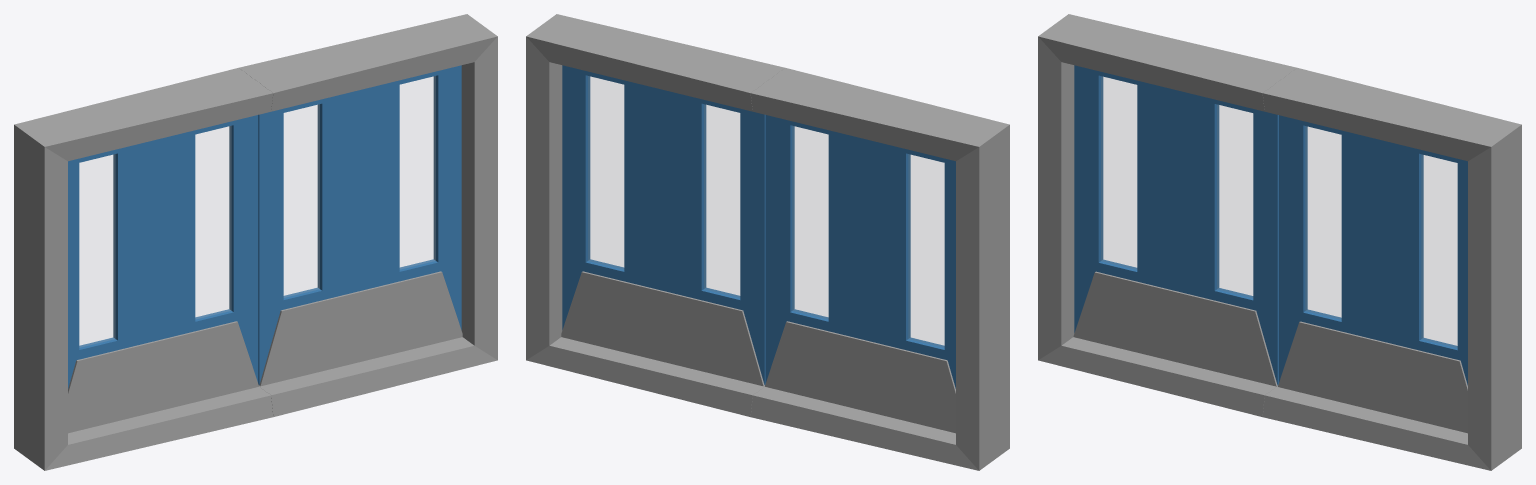
Rendered from Door.gltf.
3 renders of one model, left to right at view 1: azimuth 30°, elevation 25°; view 2: azimuth 150°, elevation 25°; view 3: azimuth 330°, elevation 25°, orthographic.
Visible parts, largest first — view 1: Door.001, Door, DoorFrame, DoorFrame.001; view 2: Door.001, Door, DoorFrame, DoorFrame.001; view 3: Door, Door.001, DoorFrame.001, DoorFrame.
Part boxes in pixels (<box>): Door.001: <box>258,65,462,386</box>; Door: <box>68,115,258,433</box>; DoorFrame: <box>14,68,273,470</box>; DoorFrame.001: <box>239,14,497,416</box>; Door.001: <box>561,65,765,386</box>; Door: <box>765,115,955,433</box>; DoorFrame: <box>750,68,1009,470</box>; DoorFrame.001: <box>526,14,784,416</box>; Door: <box>1073,65,1278,386</box>; Door.001: <box>1278,115,1467,433</box>; DoorFrame.001: <box>1262,68,1521,470</box>; DoorFrame: <box>1038,14,1296,416</box>.
Bounding box in the file's own units: 4.64 × 3.17 × 0.616.
